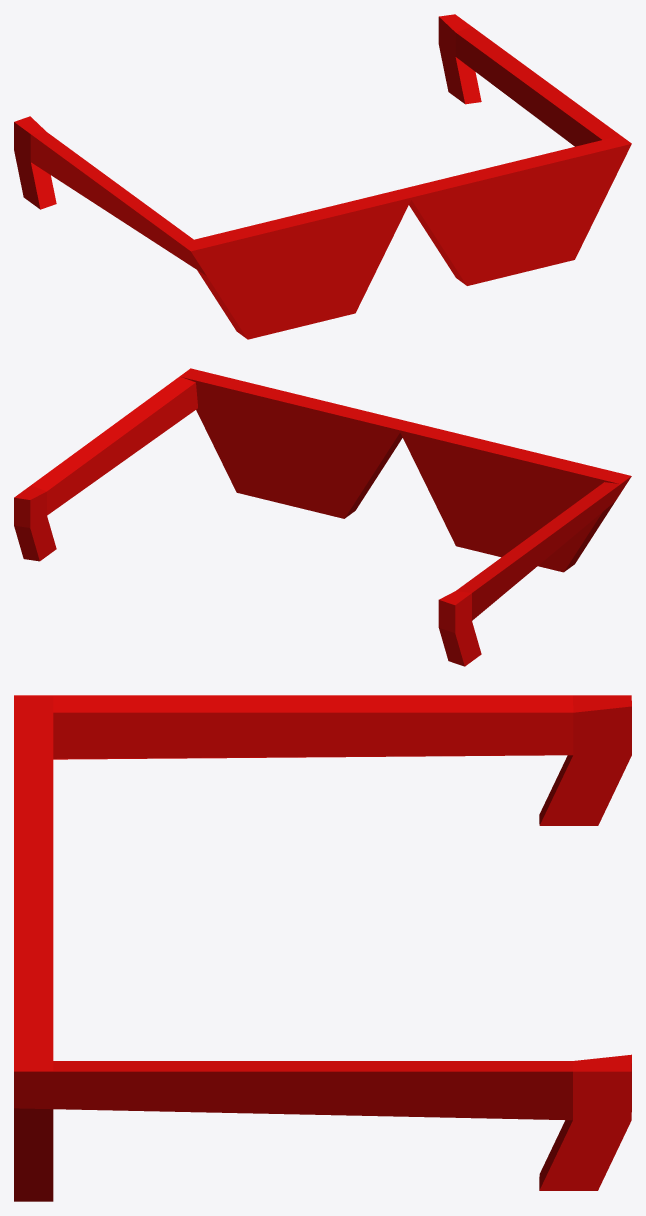
The model's file is Gafas2.fbx.
3 renders of one model, top to bottom at view 1: azimuth 30°, elevation 25°; view 2: azimuth 150°, elevation 25°; view 3: azimuth 270°, elevation 25°, orthographic. The views are drawn at different scales.
Parts seen in each view (by area): view 1: Gafas2; view 2: Gafas2; view 3: Gafas2.
Boxes of the visible parts, x1=… form: Gafas2: x1=14, y1=14, x2=631, y2=339; Gafas2: x1=14, y1=368, x2=631, y2=666; Gafas2: x1=14, y1=695, x2=631, y2=1201.
Size of the model in its own units: 25.18 by 5.67 by 17.48.
